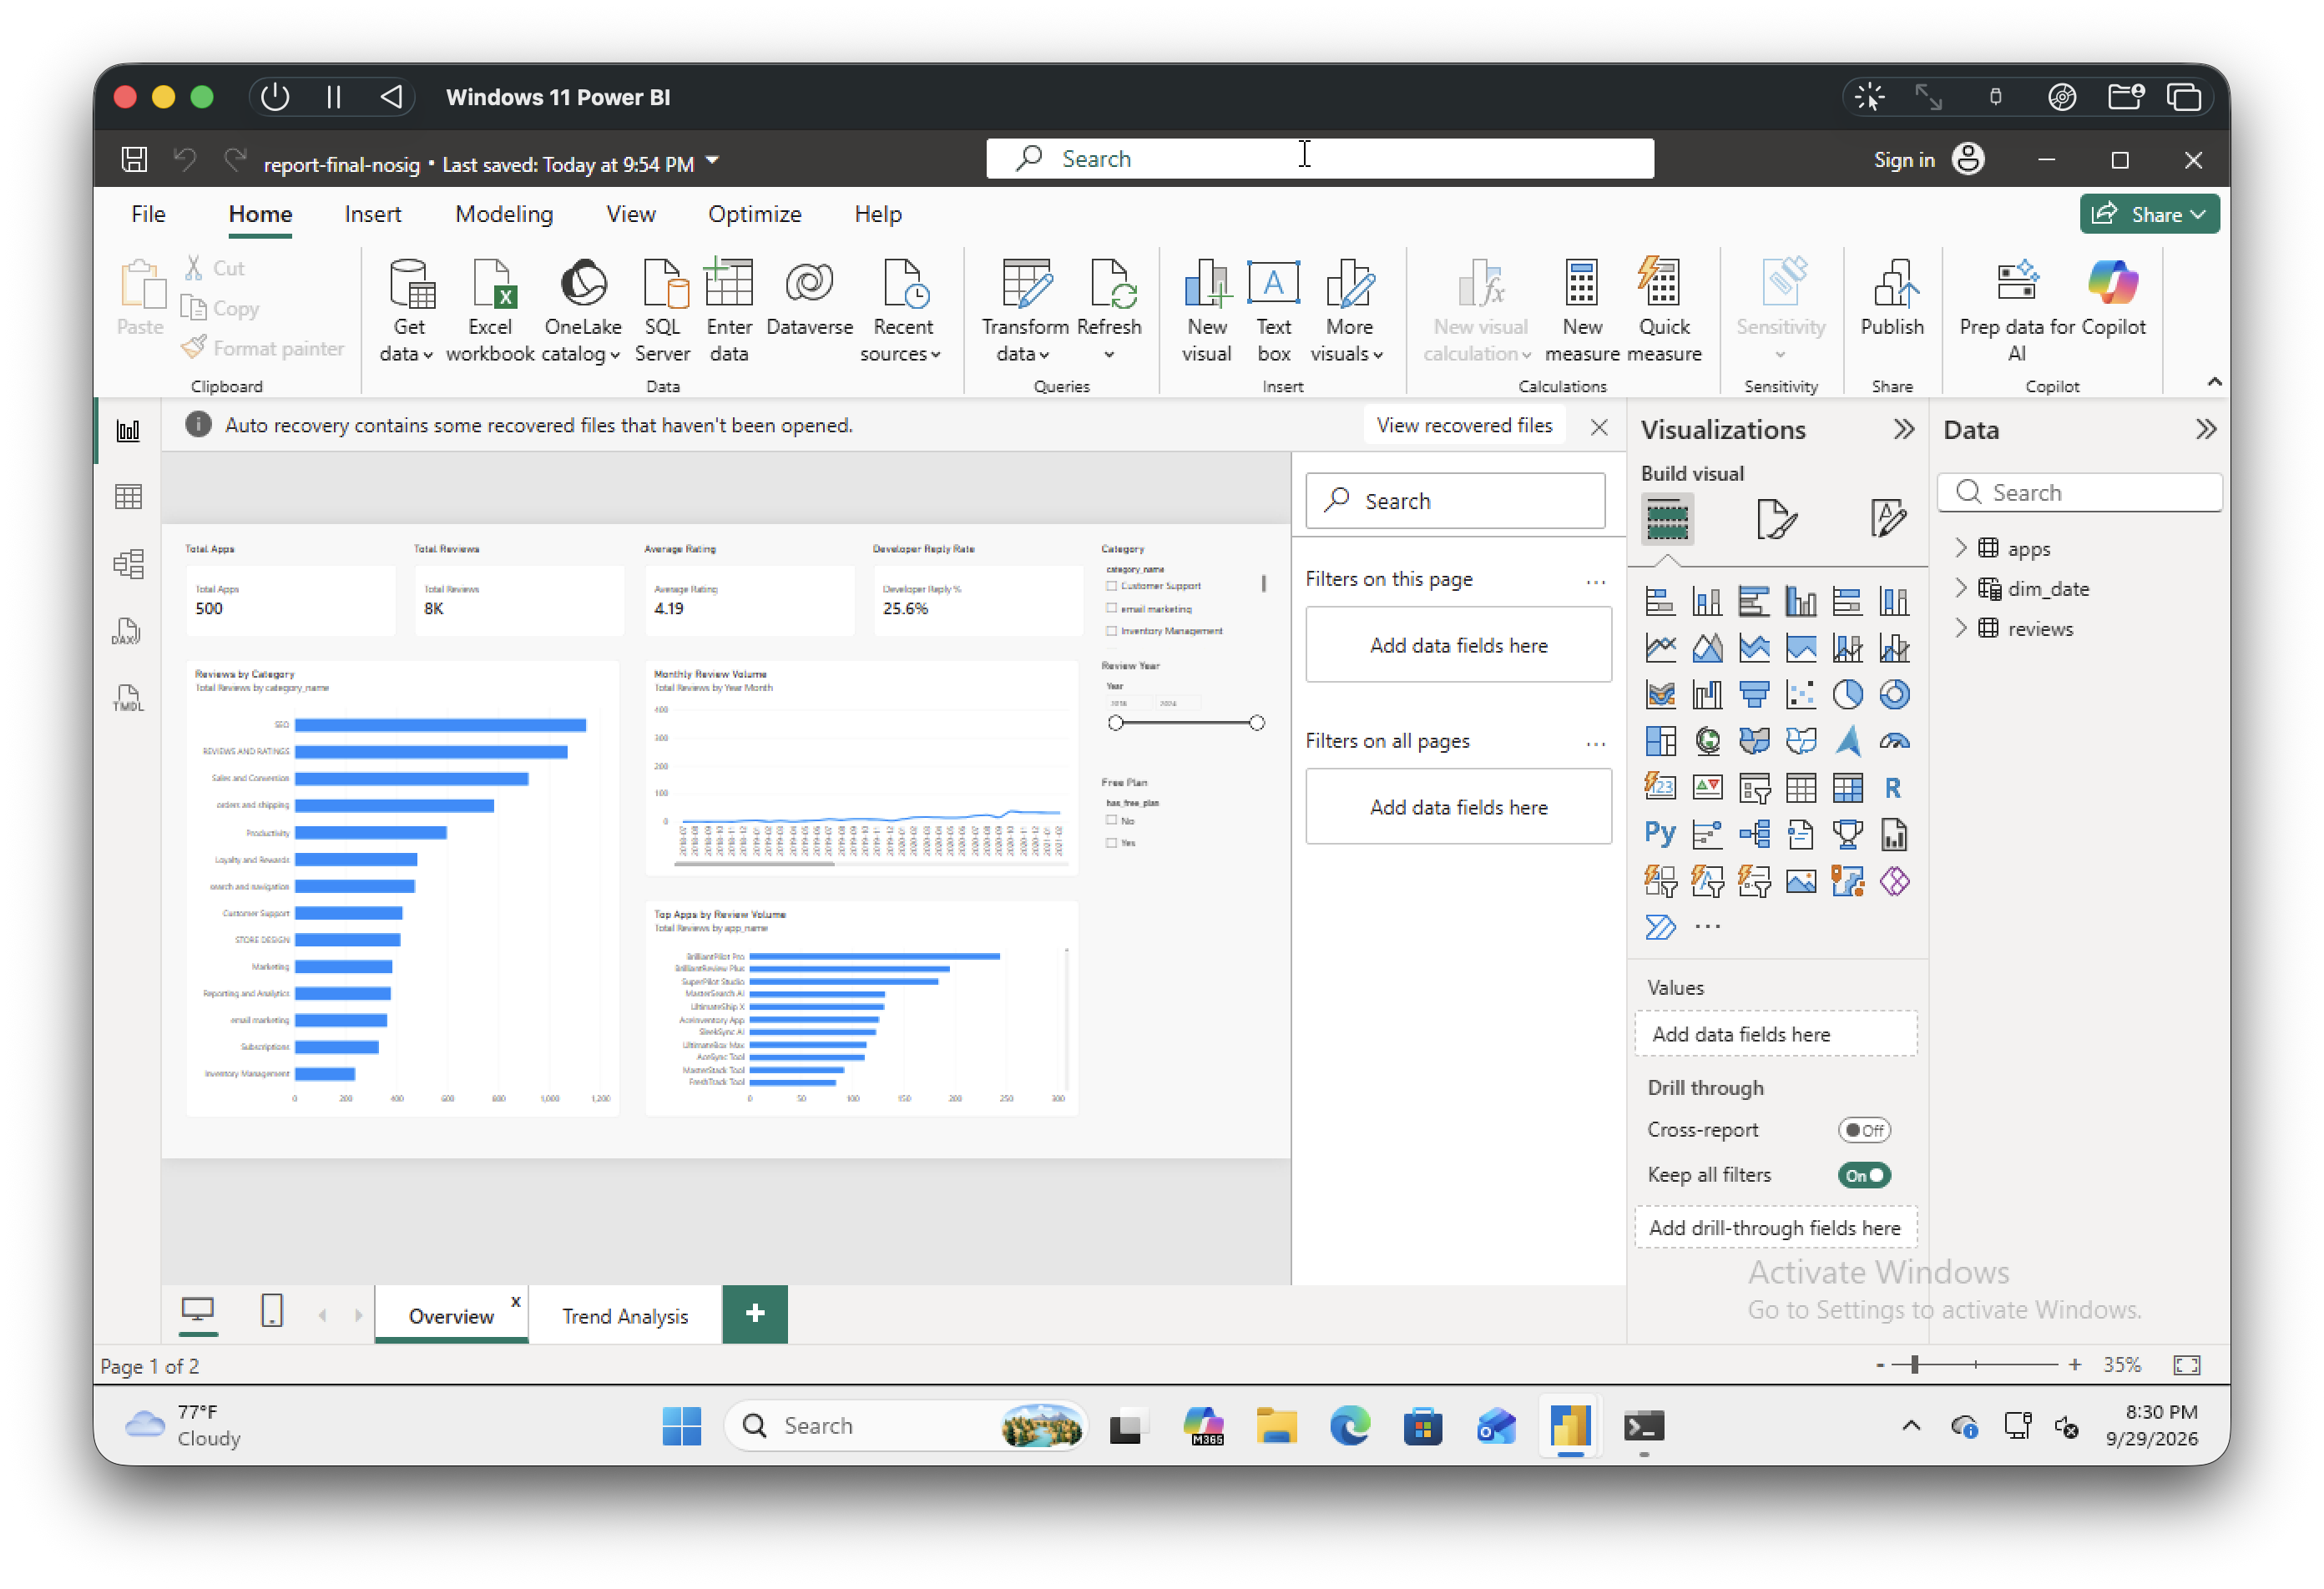

The page's visual inventory and layout, read from the dashboard file:
{"tool":"powerbi","page":{"name":"Overview","canvas":[1920,1080],"ordinal":0},"visuals":[{"type":"cardVisual","title":"Total Apps","fields":{"Data":["apps.Total Apps"]},"box":[40,30,360,160],"z":0},{"type":"cardVisual","title":"Total Reviews","fields":{"Data":["apps.Total Reviews"]},"box":[430,30,360,160],"z":1},{"type":"cardVisual","title":"Average Rating","fields":{"Data":["apps.Average Rating"]},"box":[820,30,360,160],"z":2},{"type":"cardVisual","title":"Developer Reply Rate","fields":{"Data":["apps.Developer Reply %"]},"box":[1210,30,360,160],"z":3},{"type":"slicer","title":"Category","fields":{"Values":["apps.category_name"]},"box":[1600,30,280,180],"z":4},{"type":"slicer","title":"Review Year","fields":{"Values":["dim_date.Year"]},"box":[1600,230,280,180],"z":5},{"type":"slicer","title":"Free Plan","fields":{"Values":["apps.has_free_plan"]},"box":[1600,430,280,180],"z":6},{"type":"clusteredBarChart","title":"Reviews by Category","fields":{"Category":["apps.category_name"],"Y":["apps.Total Reviews"]},"box":[40,230,740,780],"z":7},{"type":"lineChart","title":"Monthly Review Volume","fields":{"Category":["dim_date.Year Month"],"Y":["apps.Total Reviews"]},"box":[820,230,740,370],"z":8},{"type":"clusteredBarChart","title":"Top Apps by Review Volume","fields":{"Category":["apps.app_name"],"Y":["apps.Total Reviews"]},"box":[820,640,740,370],"z":9},{"type":"pageNavigator","box":[1212.8,1008.3,400,50],"z":10}]}

Visuals, with their boxes on the page's 1920x1080 design canvas (x1, y1, x2, y2). These are canvas units, not pixel positions in the 2324x1589 screenshot, which may show the page scaled, cropped or inside an application window:
"Total Apps" cardVisual: box=[40, 30, 400, 190]
"Total Reviews" cardVisual: box=[430, 30, 790, 190]
"Average Rating" cardVisual: box=[820, 30, 1180, 190]
"Developer Reply Rate" cardVisual: box=[1210, 30, 1570, 190]
"Category" slicer: box=[1600, 30, 1880, 210]
"Review Year" slicer: box=[1600, 230, 1880, 410]
"Free Plan" slicer: box=[1600, 430, 1880, 610]
"Reviews by Category" clusteredBarChart: box=[40, 230, 780, 1010]
"Monthly Review Volume" lineChart: box=[820, 230, 1560, 600]
"Top Apps by Review Volume" clusteredBarChart: box=[820, 640, 1560, 1010]
pageNavigator: box=[1213, 1008, 1613, 1058]
